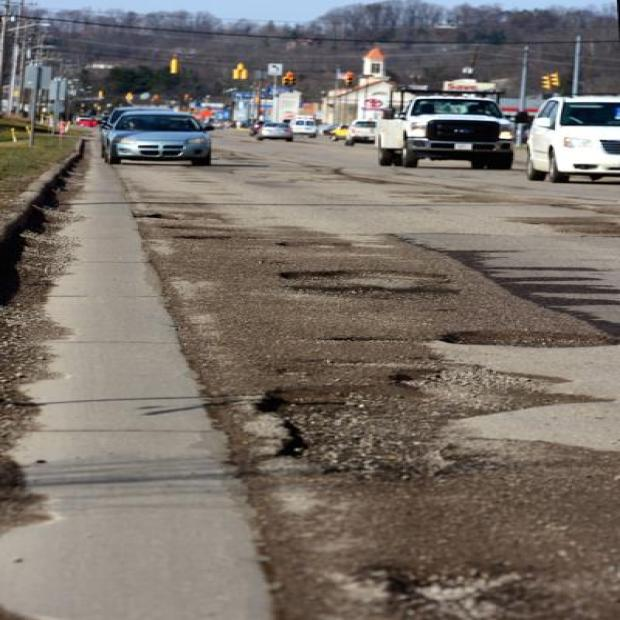lubang: (253, 361, 616, 476), (332, 567, 529, 619), (288, 280, 459, 299), (437, 329, 617, 346), (279, 269, 450, 282), (132, 205, 225, 222), (305, 356, 439, 367), (274, 237, 350, 252), (175, 235, 234, 247), (316, 337, 417, 344), (158, 225, 245, 232), (271, 368, 315, 377)
